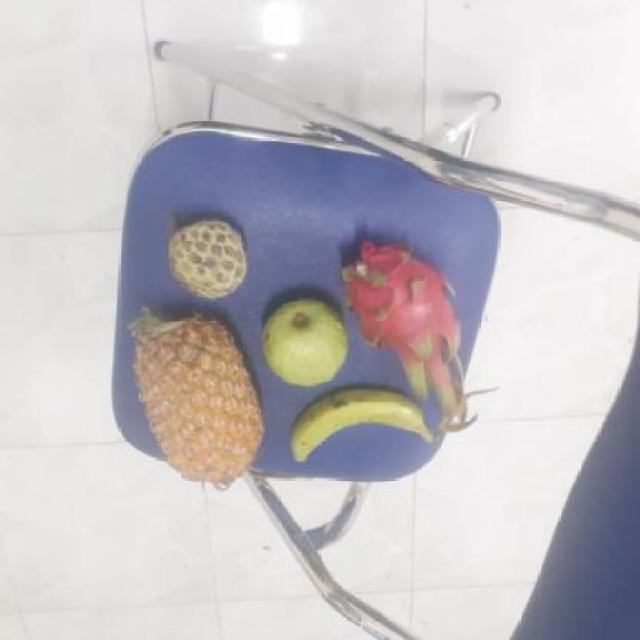dragon fruit: (335, 243, 460, 392)
guava: (256, 296, 350, 387)
pineapple: (127, 305, 262, 481)
sugar apple: (159, 219, 245, 299)
